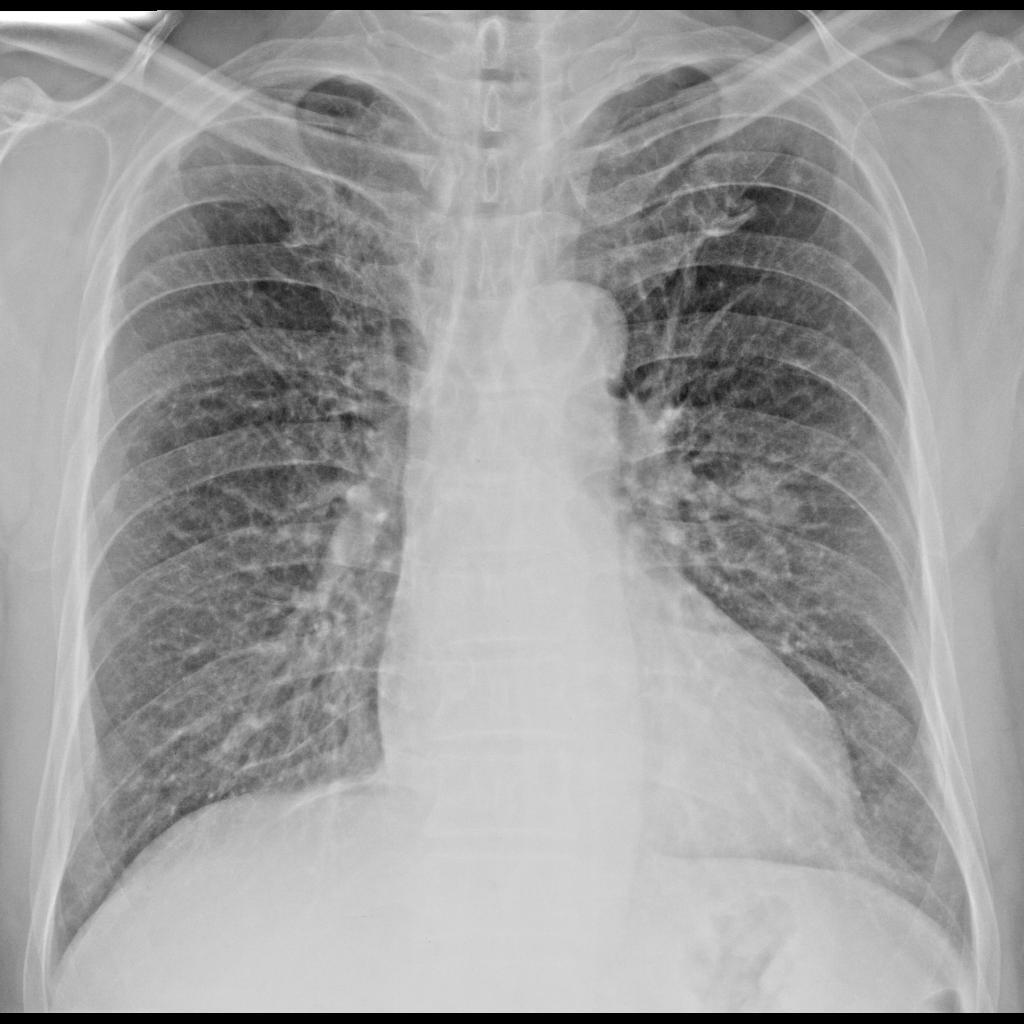Nodule: (734, 467, 801, 534)
